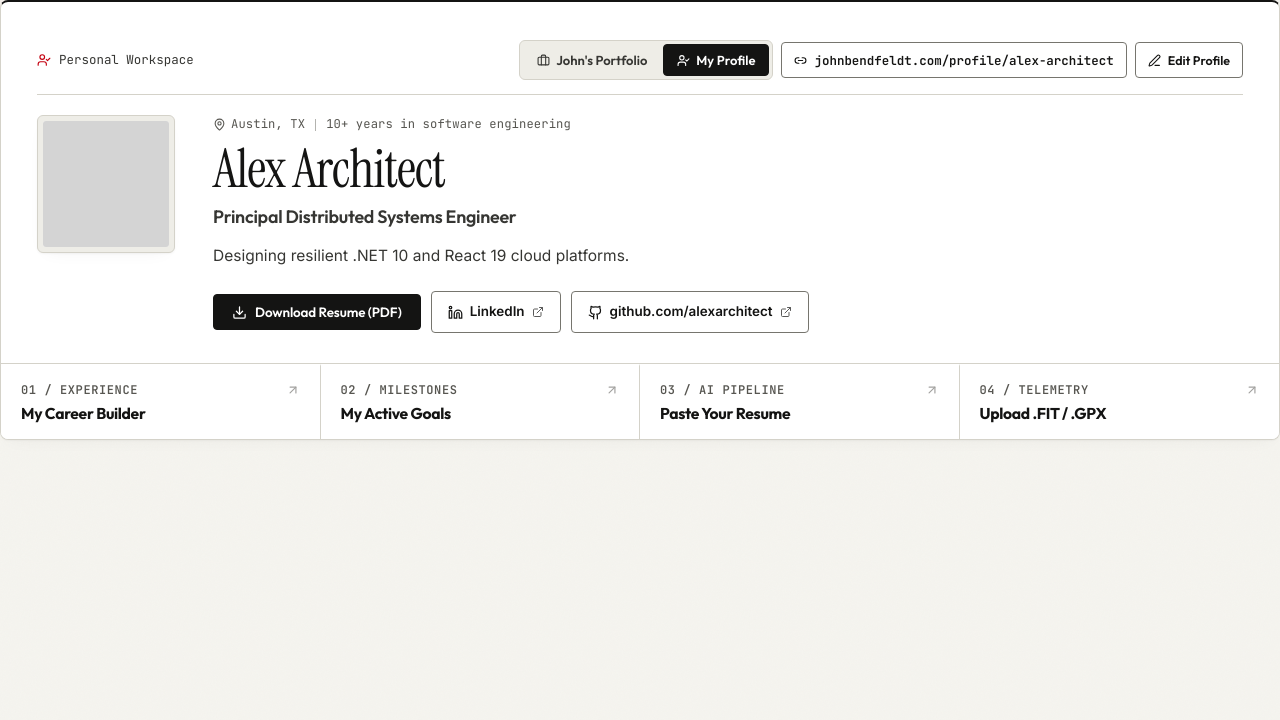
it: UI Components, Modals & Sanitization Boundaries › ProfileHero & ProfileEditModal › triggers jump navigation and sanitizes vanity slug, avatar URL, and years in ProfileEditModal
The image size is (1280, 720).
Later steps or results of the test are not shown.
Check: the number of buttons "Download Resume (PDF)" is 1, box 213,294 -> 421,330
Click the button with aria-label "Jump to Professional Experience and Resume section" at (80, 390), box 1,364 -> 320,439
Click the button with aria-label "Jump to AI Skill Extraction Pipeline section" at (722, 390), box 640,364 -> 960,439
Open Customize Profile modal
Click the button "Edit Profile" at (1189, 60), box 1135,42 -> 1243,78
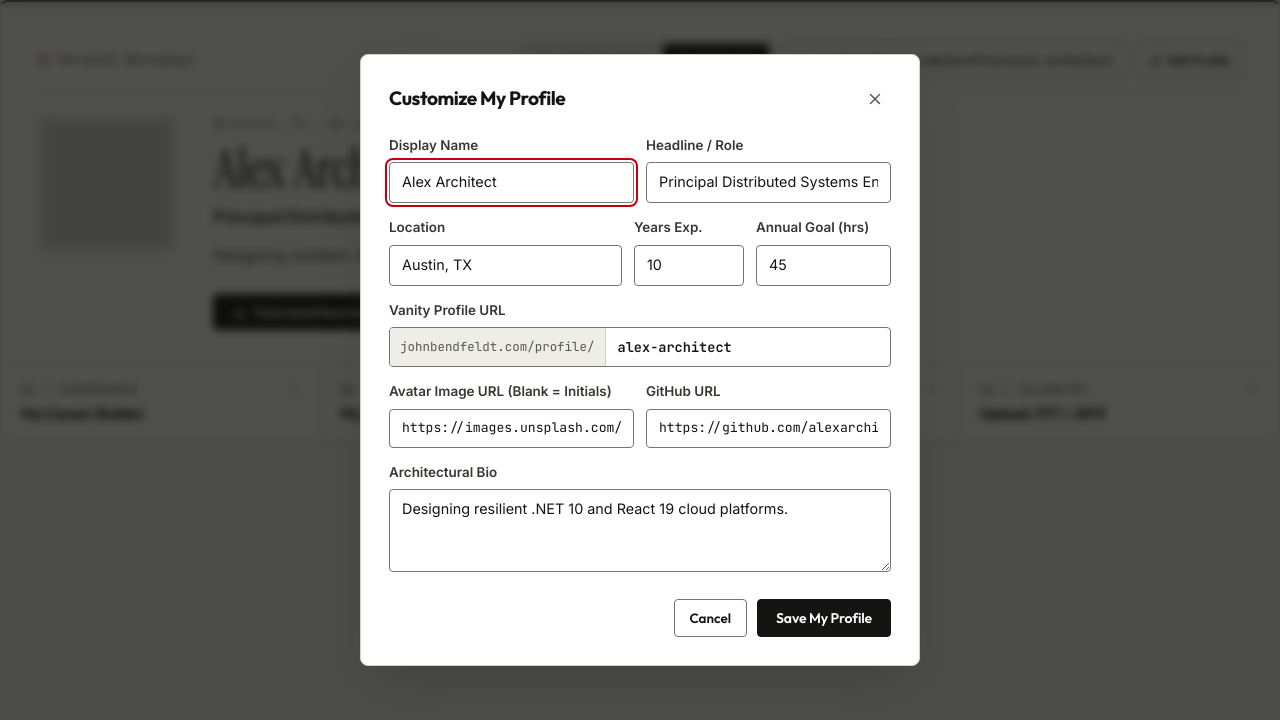
Check: the heading "Customize My Profile" is shown, box 389,87 -> 565,110
